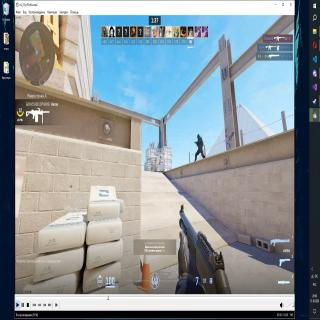CT-Body: (194, 132, 205, 160)
CT-Head: (197, 134, 200, 140)
